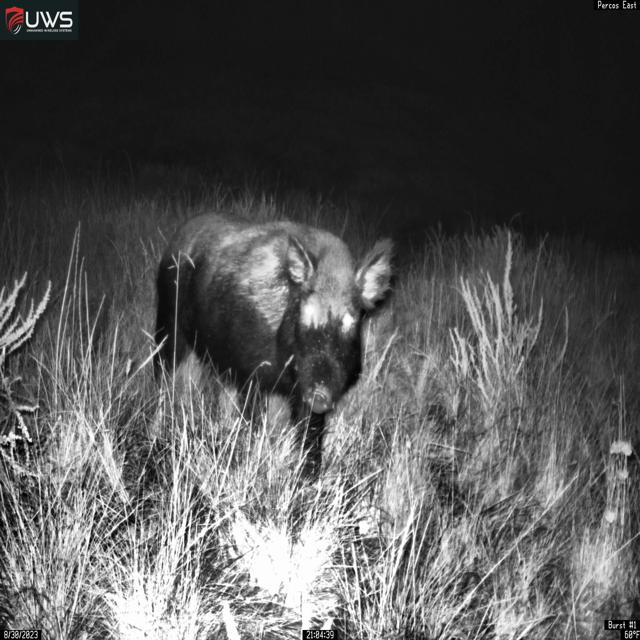pig: (152, 210, 398, 485)
